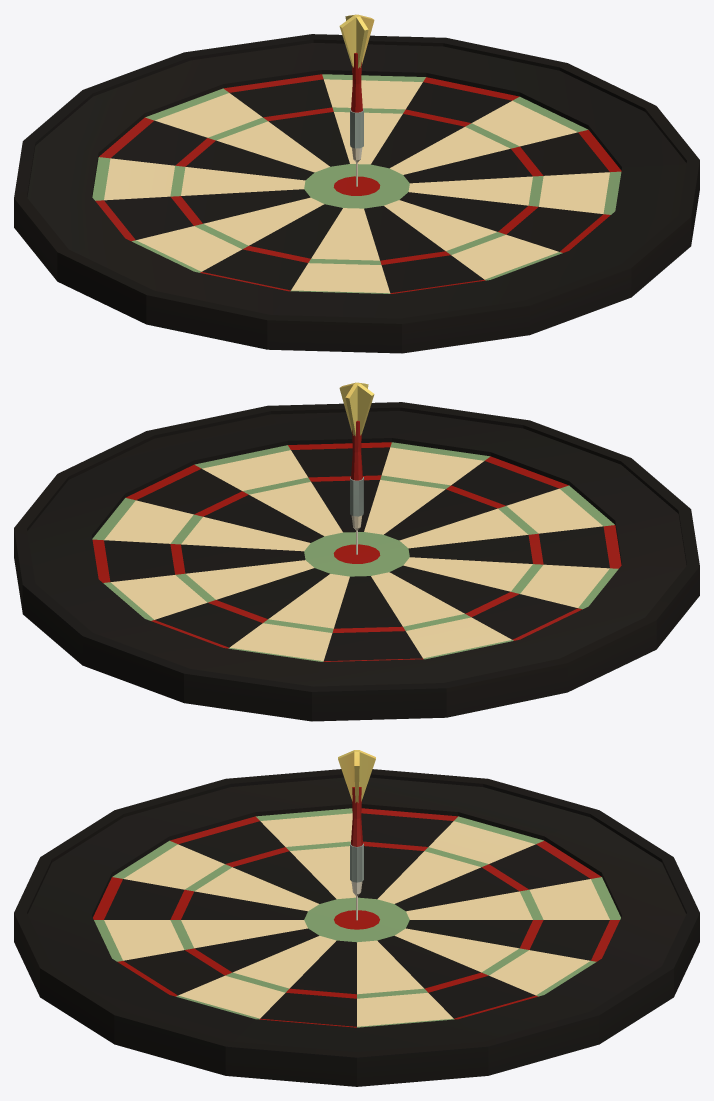
The model's file is SM_Diana.fbx.
3 views of the same model, one above another, from view 1: azimuth 30°, elevation 25°; view 2: azimuth 150°, elevation 25°; view 3: azimuth 270°, elevation 25° (orthographic).
Parts seen in each view (by area): view 1: Diana, Cube; view 2: Diana, Cube; view 3: Diana, Cube.
Part boxes in pixels (x1,y1,x2,y2): Diana: (14,34,699,353); Cube: (339,14,374,186); Diana: (14,402,699,721); Cube: (339,382,374,554); Diana: (14,769,699,1086); Cube: (338,750,375,920).
Size of the model in its own units: 51.37 by 15.78 by 51.37.
